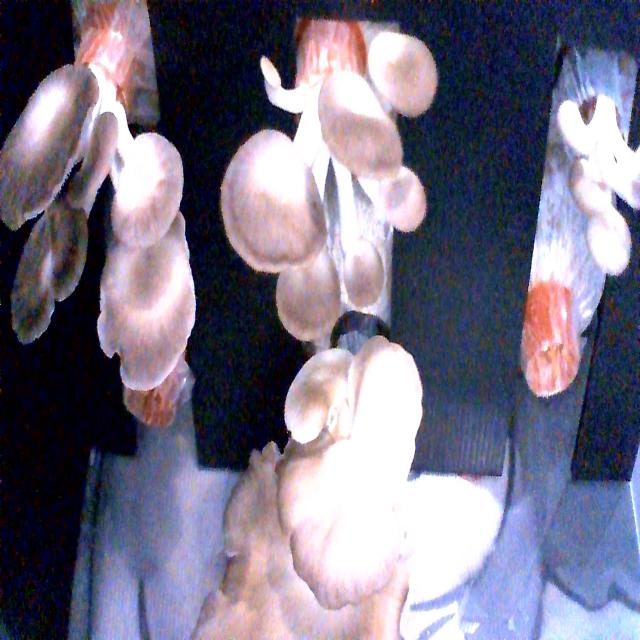big: (198, 332, 443, 640), (212, 30, 448, 343), (0, 51, 205, 407)
nfound: (106, 348, 205, 459), (514, 292, 583, 410)
small: (532, 55, 640, 276)
